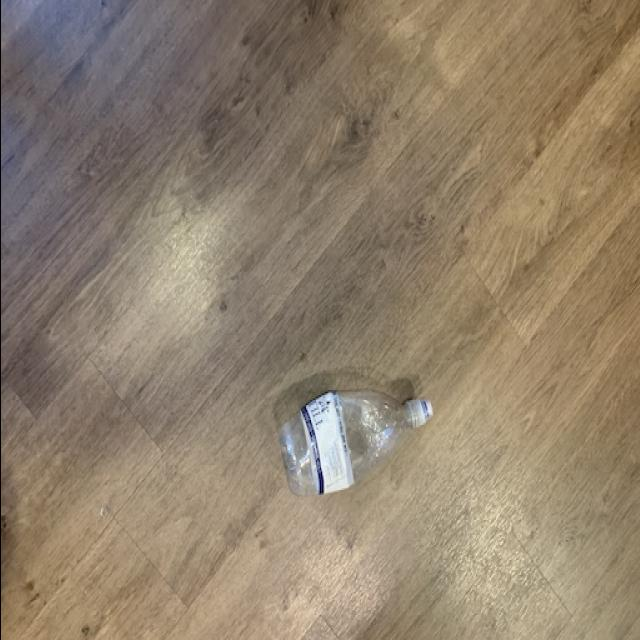PET: (277, 385, 433, 495)
